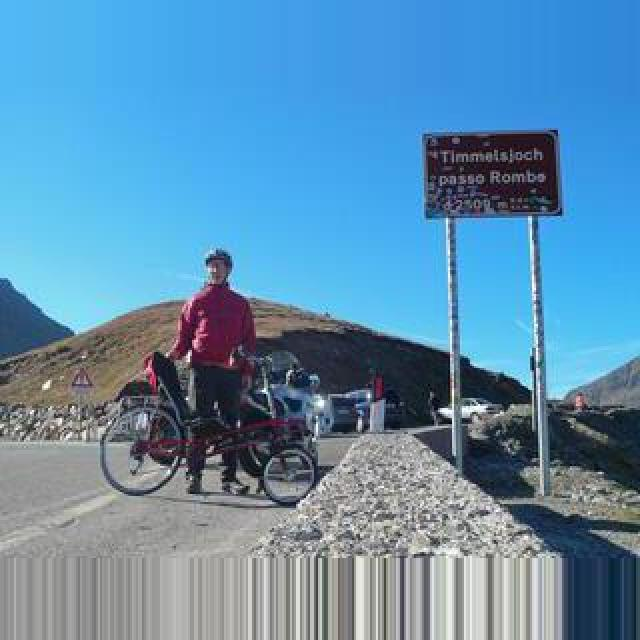Bus-Bike: (430, 398, 494, 424)
MC-Bike: (168, 246, 260, 498)
Person: (100, 348, 324, 506)
